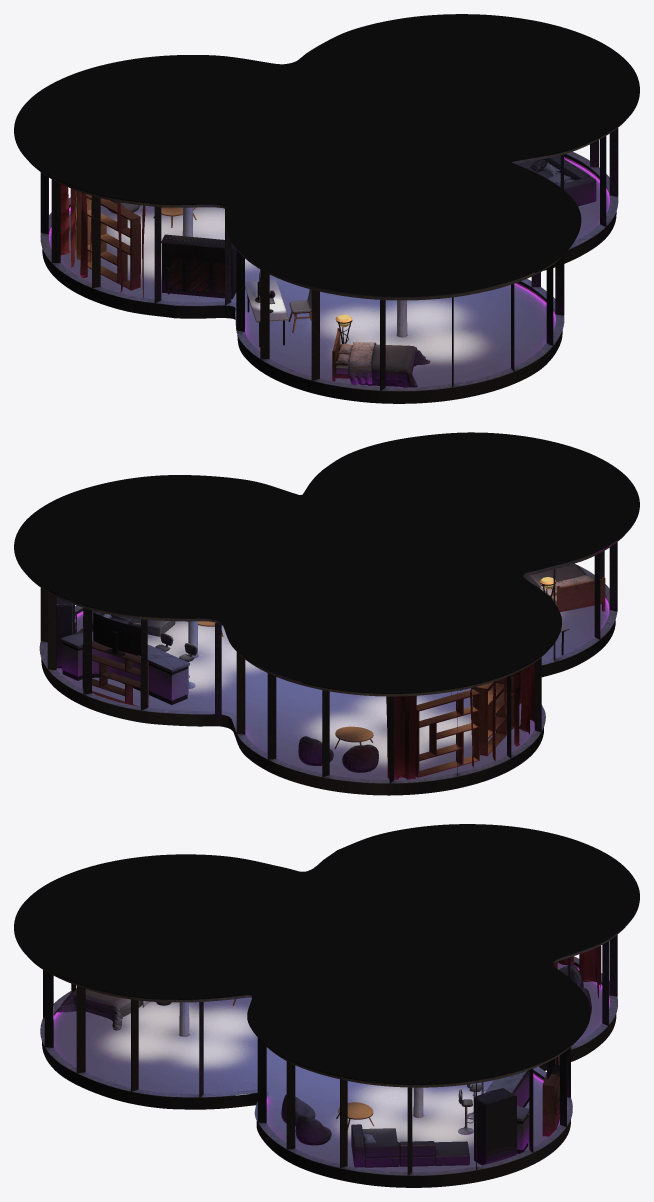
File: kleeblatt_nosky.glb
3 views of the same model, one above another, from view 1: azimuth 30°, elevation 25°; view 2: azimuth 150°, elevation 25°; view 3: azimuth 270°, elevation 25° (orthographic). The views are drawn at different scales.
Parts seen in each view (by area): view 1: kleeblatt.001, TV.002; view 2: kleeblatt.001, TV.002; view 3: kleeblatt.001, TV.002.
Part boxes in pixels (bbox=[...]): kleeblatt.001: bbox=[14, 14, 639, 403]; TV.002: bbox=[60, 155, 596, 387]; kleeblatt.001: bbox=[14, 432, 639, 795]; TV.002: bbox=[56, 564, 605, 779]; kleeblatt.001: bbox=[14, 824, 639, 1187]; TV.002: bbox=[57, 945, 601, 1167].
Bounding box in the file's own units: 17.61 × 3.63 × 17.91.
Materials: 2 (2 with a texture image).
